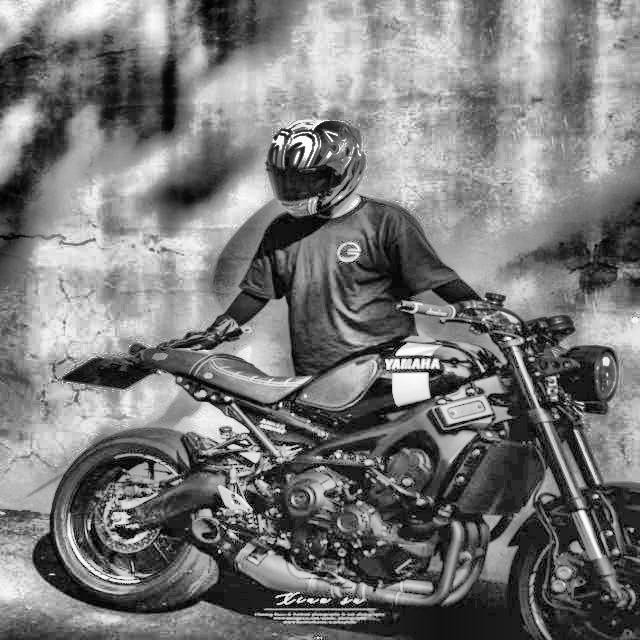Helmet: (260, 115, 370, 222)
